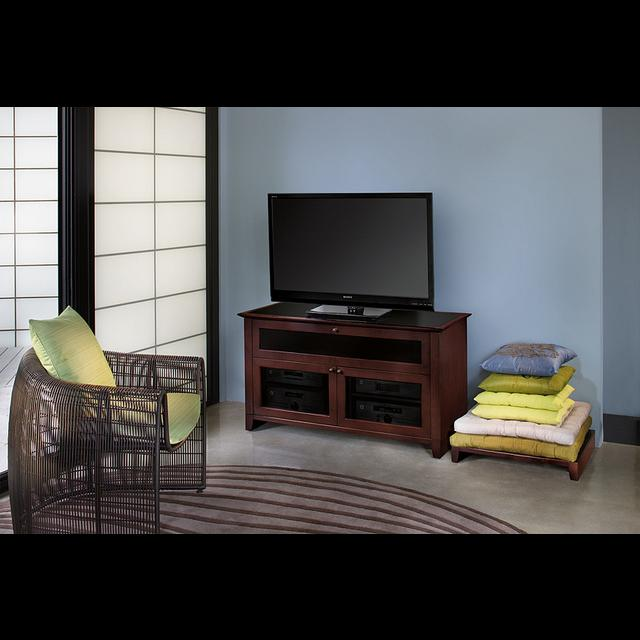Flat-Panel-TV: (269, 191, 435, 310)
